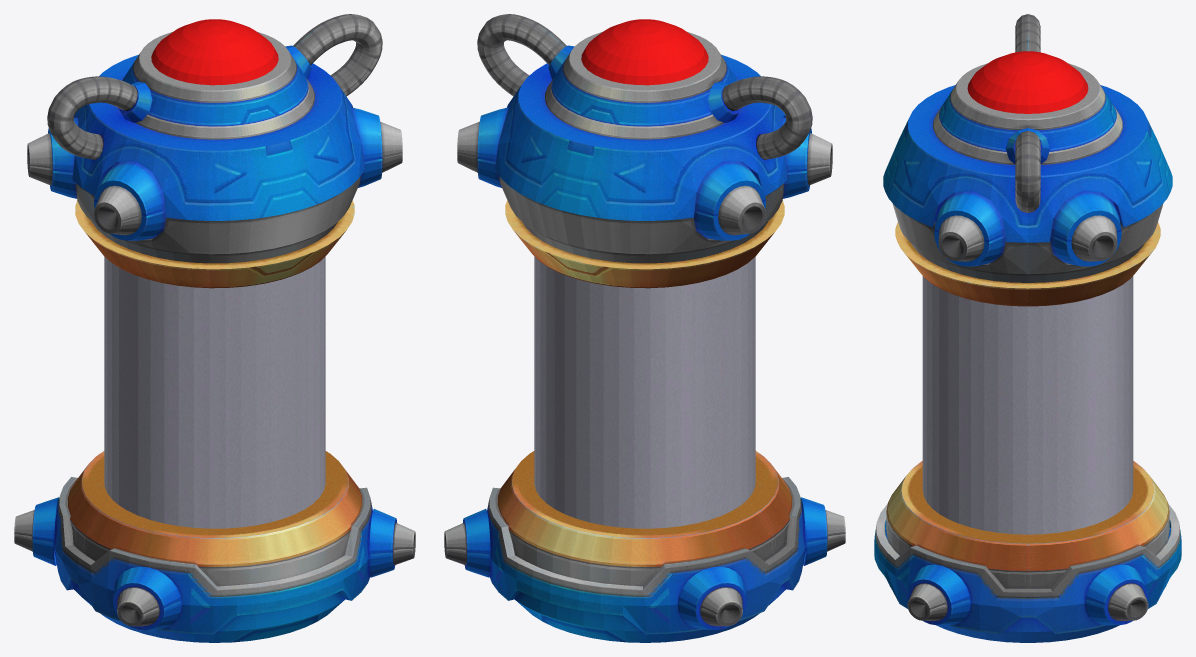
File: Armor Capsule.obj
The picture shows the model from 3 angles, left to right: view 1: azimuth 30°, elevation 25°; view 2: azimuth 150°, elevation 25°; view 3: azimuth 270°, elevation 25°; orthographic projection. The views are drawn at different scales.
Visible parts, largest first — view 1: ArmorCapsule_000_000_-_a_68862_[TCP2_Smoothed]_0, ArmorCapsule_000_000_-_b_68864_[TCP2_Smoothed]_0, ArmorCapsule_000_000_-_c_68866_[TCP2_Smoothed]_0; view 2: ArmorCapsule_000_000_-_a_68862_[TCP2_Smoothed]_0, ArmorCapsule_000_000_-_b_68864_[TCP2_Smoothed]_0, ArmorCapsule_000_000_-_c_68866_[TCP2_Smoothed]_0; view 3: ArmorCapsule_000_000_-_a_68862_[TCP2_Smoothed]_0, ArmorCapsule_000_000_-_b_68864_[TCP2_Smoothed]_0, ArmorCapsule_000_000_-_c_68866_[TCP2_Smoothed]_0.
Boxes of the visible parts, x1,y1,x2,y2 form: ArmorCapsule_000_000_-_a_68862_[TCP2_Smoothed]_0: [14, 14, 415, 642]; ArmorCapsule_000_000_-_b_68864_[TCP2_Smoothed]_0: [104, 256, 325, 528]; ArmorCapsule_000_000_-_c_68866_[TCP2_Smoothed]_0: [151, 19, 278, 85]; ArmorCapsule_000_000_-_a_68862_[TCP2_Smoothed]_0: [444, 14, 845, 642]; ArmorCapsule_000_000_-_b_68864_[TCP2_Smoothed]_0: [534, 256, 755, 528]; ArmorCapsule_000_000_-_c_68866_[TCP2_Smoothed]_0: [581, 19, 708, 85]; ArmorCapsule_000_000_-_a_68862_[TCP2_Smoothed]_0: [874, 14, 1181, 642]; ArmorCapsule_000_000_-_b_68864_[TCP2_Smoothed]_0: [922, 276, 1133, 534]; ArmorCapsule_000_000_-_c_68866_[TCP2_Smoothed]_0: [967, 51, 1088, 113].
Size of the model in its own units: 1.85 by 2.99 by 1.56.
3 materials, 3 textured.
